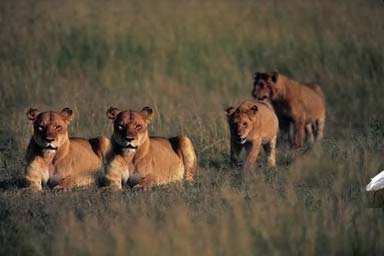copymove: (18, 106, 110, 193)
removal: (290, 131, 384, 180)
spliced: (363, 162, 384, 195)
